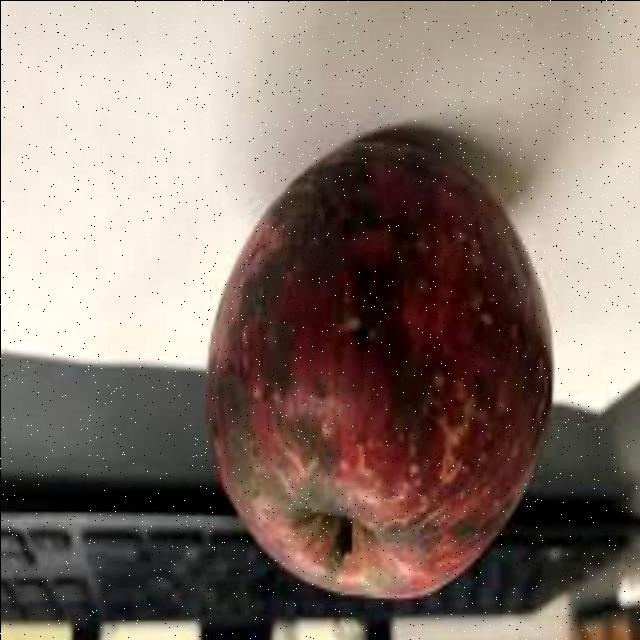BLOTCH: (177, 98, 566, 610)
